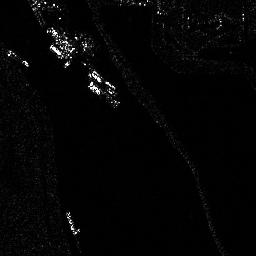ship: (5, 50, 31, 67), (64, 211, 80, 236)
